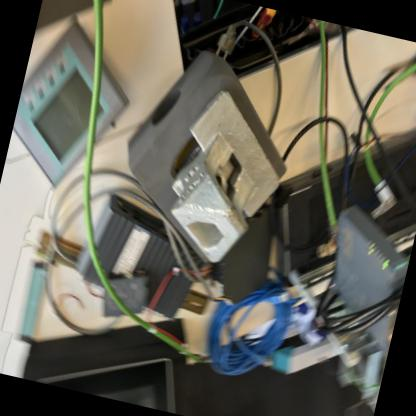CornerCasting: (120, 32, 236, 217)
Twistlock: (150, 80, 301, 276)
